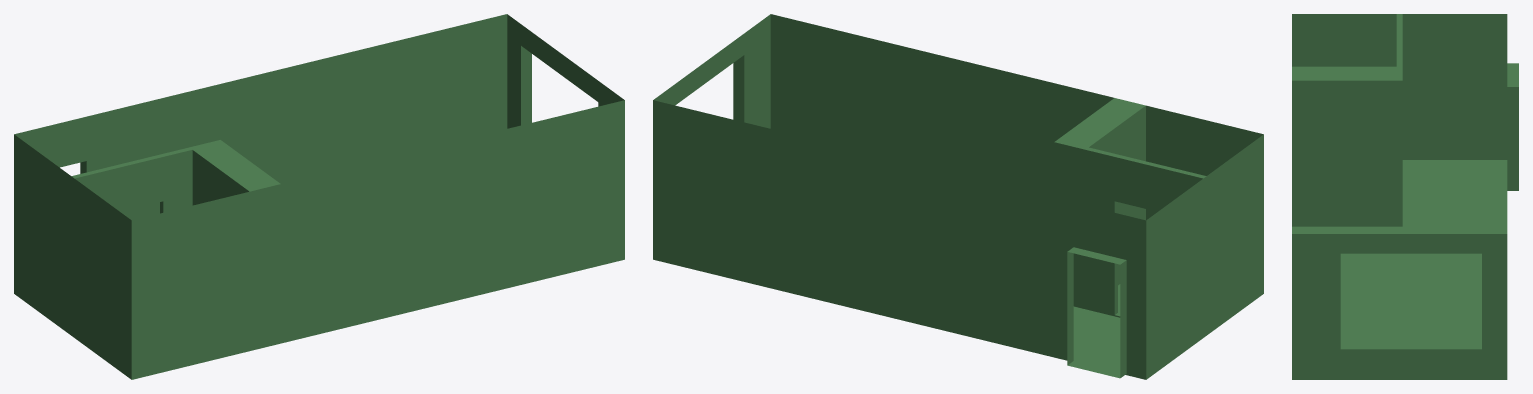
File: Rooms_A_2_2_11.FBX
3 renders of one model, left to right at view 1: azimuth 30°, elevation 25°; view 2: azimuth 150°, elevation 25°; view 3: azimuth 270°, elevation 25°, orthographic. The views are drawn at different scales.
Parts seen in each view (by area): view 1: Rooms_A_2_2_11; view 2: Rooms_A_2_2_11; view 3: Rooms_A_2_2_11.
Boxes of the visible parts, <box> form: Rooms_A_2_2_11: <box>14,14,624,379</box>; Rooms_A_2_2_11: <box>653,14,1263,379</box>; Rooms_A_2_2_11: <box>1292,14,1518,379</box>.
Size of the model in its own units: 9.25 by 2.8 by 3.94.
